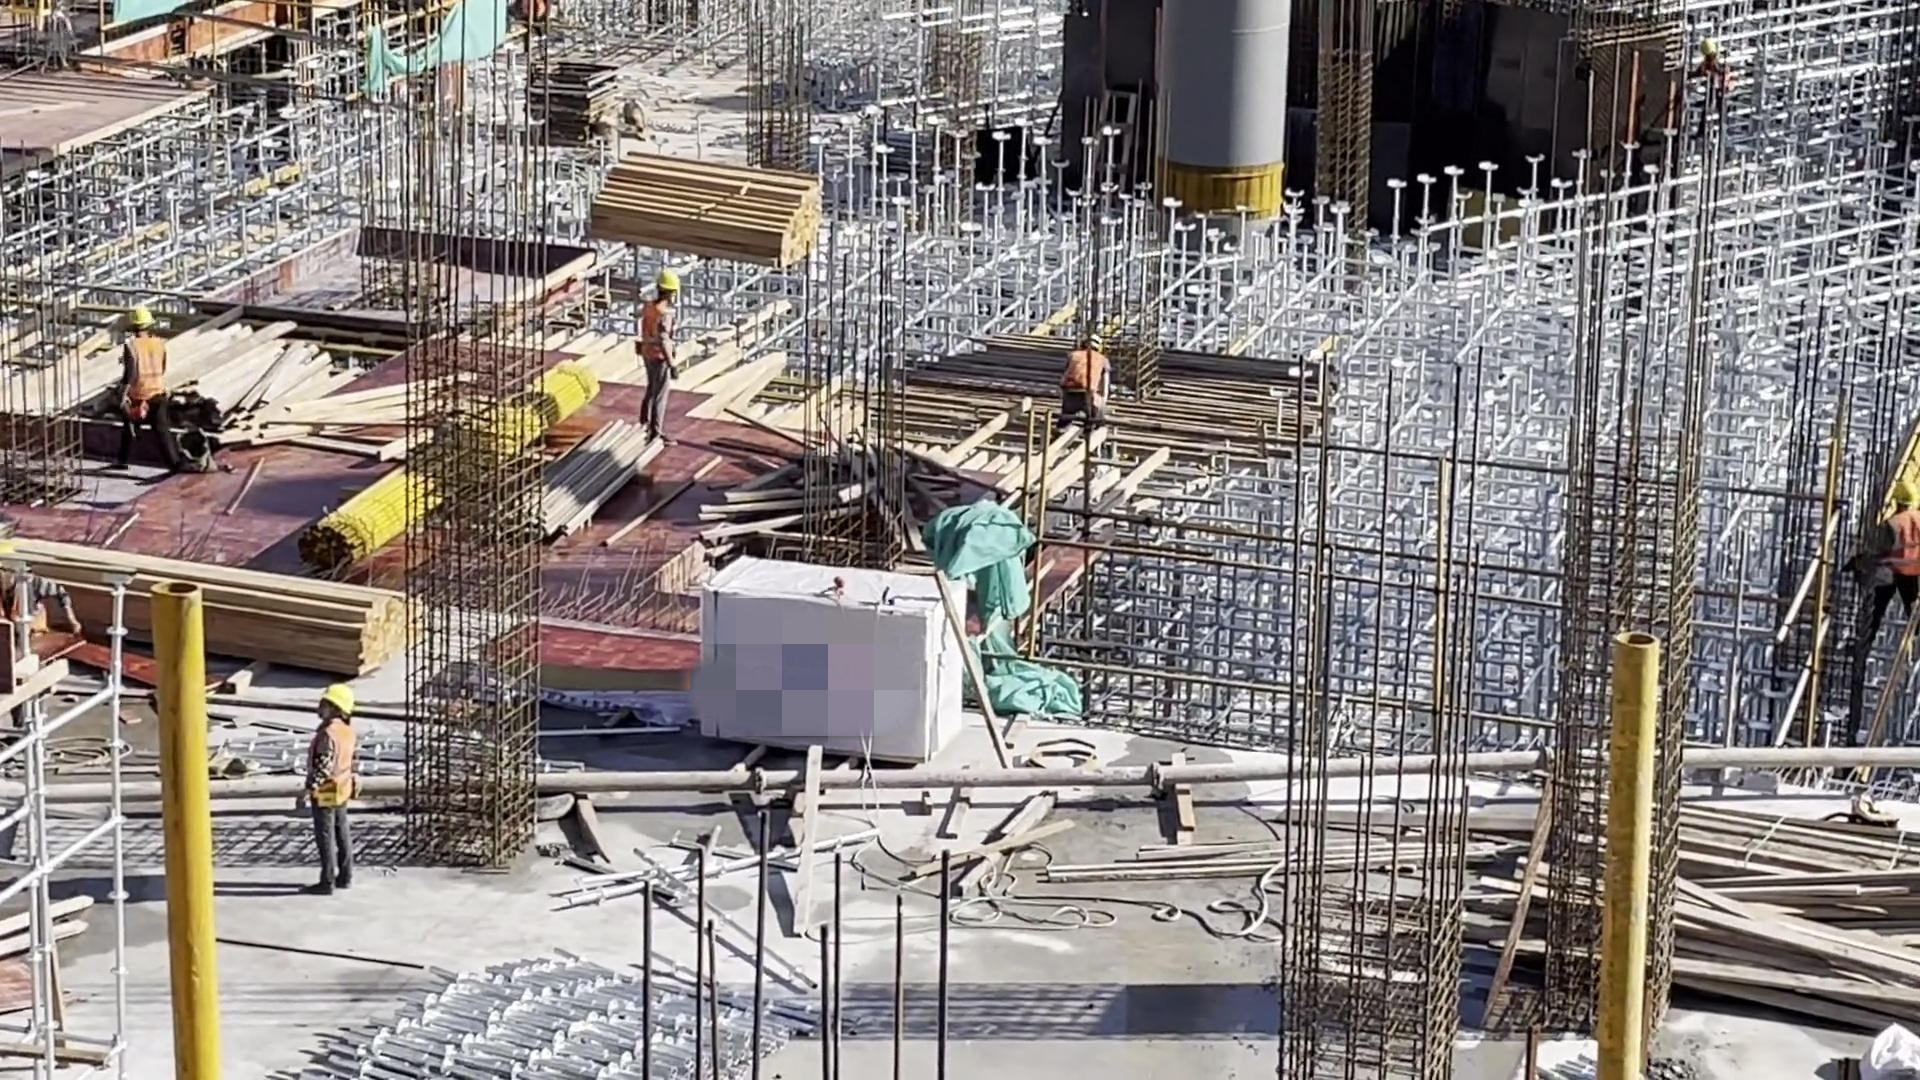helmet: (318, 687, 358, 716), (1896, 480, 1920, 514), (126, 306, 154, 331), (654, 273, 681, 297), (1087, 327, 1103, 354), (1702, 43, 1716, 64)
person: (304, 694, 370, 898), (641, 275, 691, 446), (1871, 483, 1920, 650), (118, 304, 170, 426), (1066, 332, 1121, 431), (1696, 43, 1730, 126)
scaffold: (274, 950, 828, 1080)
vest: (306, 717, 362, 807), (126, 337, 168, 397), (1881, 509, 1920, 570), (640, 302, 674, 361), (1069, 350, 1103, 398)
wood: (1515, 782, 1920, 1034), (1, 521, 426, 671), (581, 145, 825, 266)
